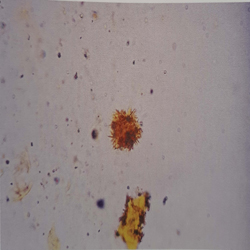Crystal: (115, 180, 154, 250), (105, 105, 147, 156)
